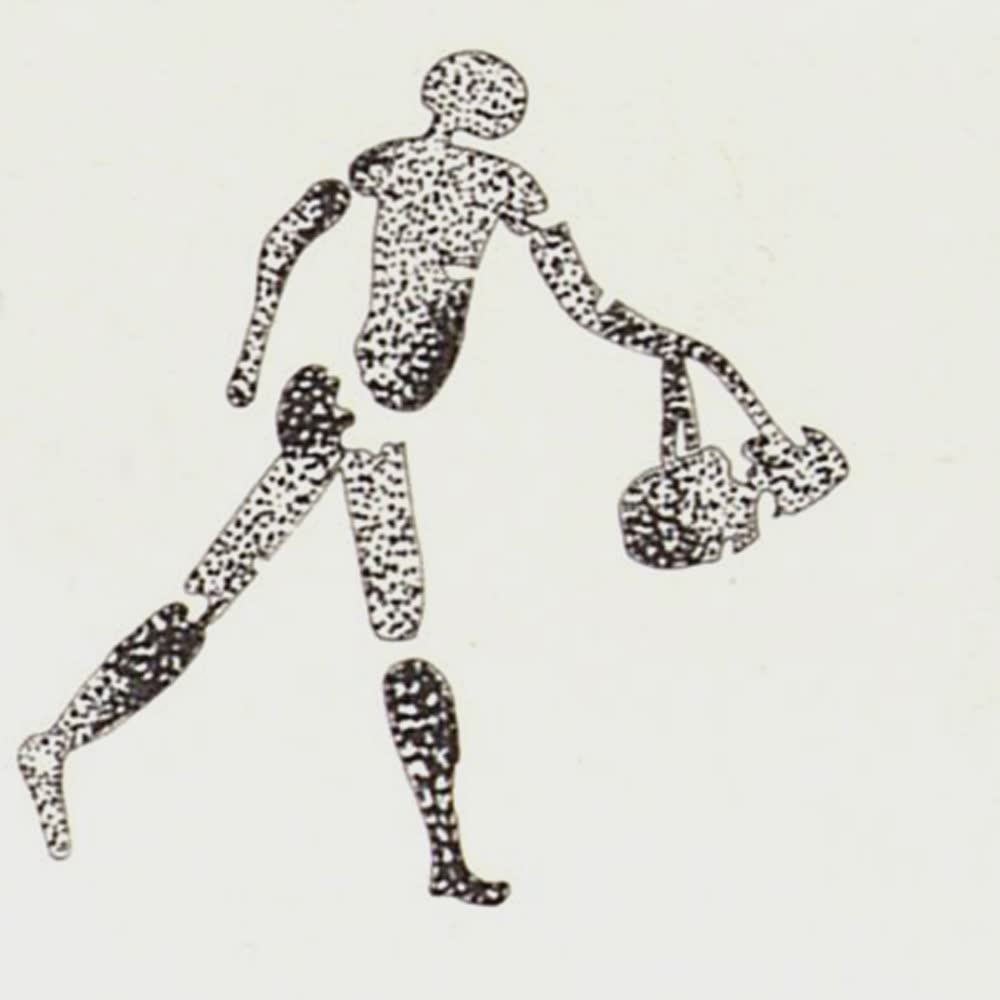woman: (8, 45, 855, 925)
